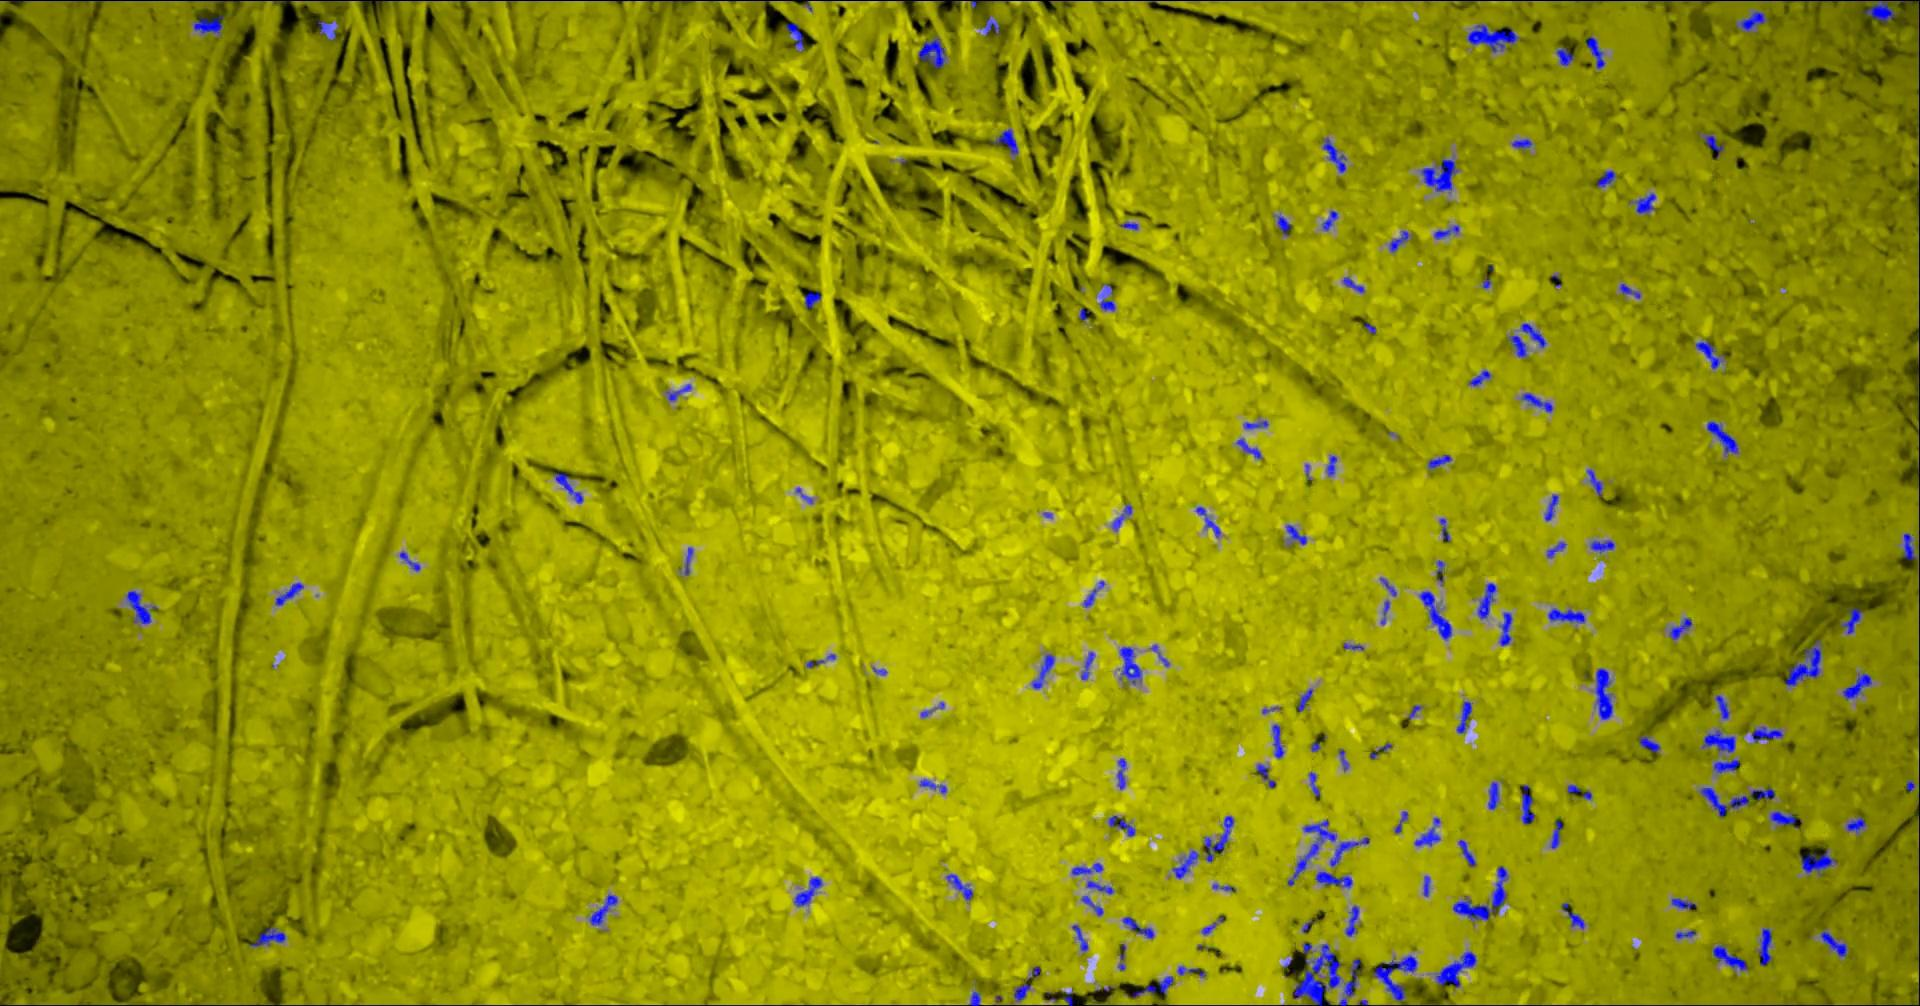ant: (1288, 819, 1336, 885), (1451, 865, 1507, 920), (1699, 788, 1774, 817), (1373, 955, 1416, 1001), (1784, 639, 1821, 686), (1418, 591, 1451, 640), (1435, 951, 1476, 987), (1467, 24, 1517, 52), (1203, 815, 1233, 861), (1420, 159, 1457, 191), (1330, 837, 1369, 866), (1863, 0, 1911, 23), (1705, 420, 1738, 453), (1338, 958, 1361, 1005), (1712, 944, 1747, 970), (1594, 667, 1611, 719), (1131, 976, 1173, 997), (1801, 848, 1836, 874), (552, 473, 582, 503), (918, 36, 946, 67), (1695, 339, 1724, 368), (792, 876, 822, 906), (589, 894, 617, 925), (1119, 647, 1142, 683), (1195, 506, 1220, 537), (1322, 138, 1346, 171), (126, 589, 150, 622), (1031, 654, 1054, 688), (1843, 672, 1870, 700), (1820, 929, 1846, 956), (1702, 730, 1735, 752), (989, 130, 1017, 155), (1415, 817, 1440, 845), (1172, 850, 1197, 878), (946, 873, 971, 899), (249, 927, 284, 946), (274, 582, 303, 605), (1123, 916, 1153, 937), (1477, 582, 1495, 619), (1735, 11, 1768, 30), (1585, 36, 1604, 69), (1314, 871, 1352, 888), (1520, 323, 1545, 347), (1839, 607, 1863, 633), (1561, 902, 1583, 929), (1520, 392, 1552, 412), (1547, 607, 1583, 622), (193, 15, 223, 33), (1083, 580, 1103, 607), (785, 22, 804, 50), (1757, 927, 1771, 965), (1769, 810, 1801, 827), (1236, 438, 1261, 459), (1111, 504, 1131, 530), (1109, 815, 1134, 836), (1457, 840, 1476, 866), (1521, 784, 1534, 823), (1669, 617, 1691, 639), (1703, 133, 1723, 158), (1586, 469, 1603, 497), (1070, 923, 1087, 951), (1256, 763, 1275, 788), (1457, 701, 1470, 733), (1751, 727, 1783, 741), (1081, 895, 1103, 915), (665, 384, 691, 400), (1902, 533, 1919, 559), (1498, 612, 1511, 645), (1636, 192, 1655, 213), (1389, 230, 1408, 251), (1507, 335, 1526, 357), (399, 551, 420, 570), (1098, 283, 1114, 310), (1271, 723, 1283, 758), (1345, 904, 1357, 936), (1079, 652, 1093, 680), (316, 20, 337, 39), (1285, 525, 1305, 544), (1713, 758, 1738, 774), (919, 779, 946, 793), (1086, 880, 1112, 894), (1567, 784, 1591, 799), (1070, 862, 1102, 874), (1342, 276, 1364, 292), (1638, 735, 1660, 752), (1544, 494, 1558, 520), (1427, 453, 1450, 469), (1297, 688, 1312, 711), (982, 17, 999, 36), (1432, 225, 1459, 238), (1846, 815, 1865, 833), (1716, 694, 1730, 718), (1321, 210, 1337, 230), (1276, 213, 1291, 235), (1468, 370, 1490, 385), (1487, 781, 1498, 809), (1550, 821, 1562, 848), (1556, 47, 1573, 65), (1596, 170, 1615, 187), (1545, 541, 1564, 558), (1619, 283, 1639, 298), (1590, 540, 1614, 553), (1013, 982, 1030, 1000), (1308, 771, 1319, 796), (1394, 810, 1407, 833), (1177, 967, 1205, 977), (1671, 898, 1695, 909), (804, 291, 820, 307), (1116, 758, 1125, 789), (1439, 518, 1449, 541), (1326, 455, 1336, 476), (684, 547, 692, 575), (1243, 420, 1269, 428), (1511, 138, 1533, 147), (1675, 929, 1695, 937), (1436, 559, 1444, 582), (1063, 988, 1073, 1005), (969, 991, 980, 1005), (1782, 0, 1865, 1), (1423, 875, 1429, 895), (1917, 0, 1919, 77)
